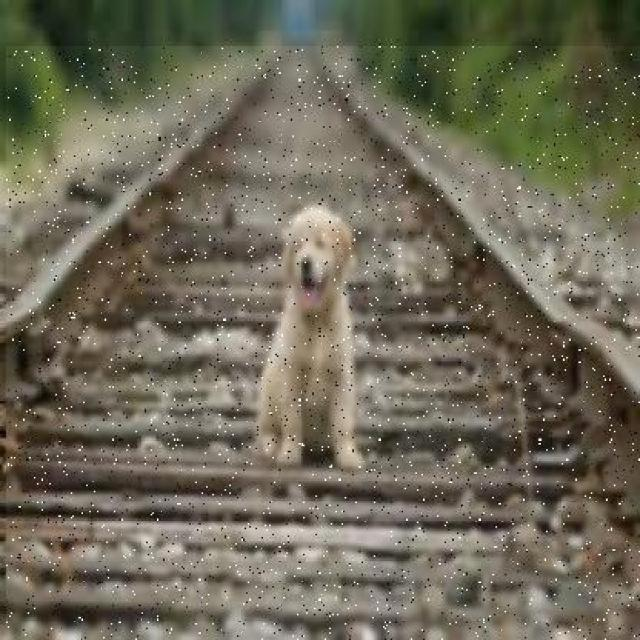rail: (7, 47, 640, 640)
